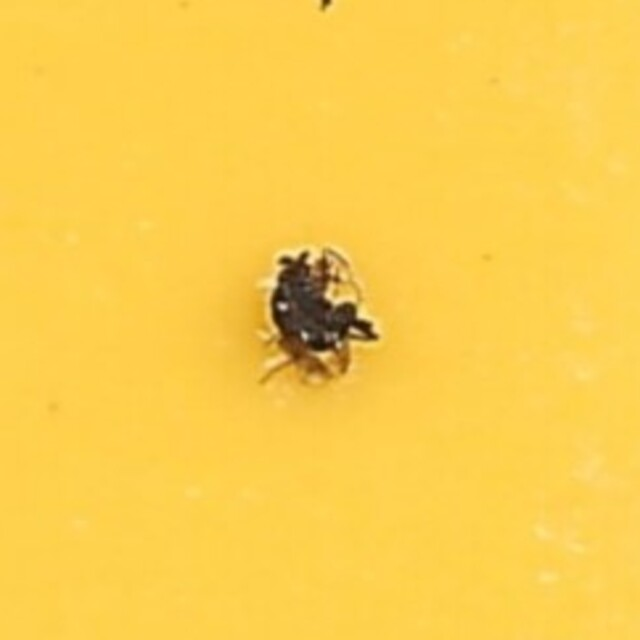Brachycera: (264, 249, 376, 391)
